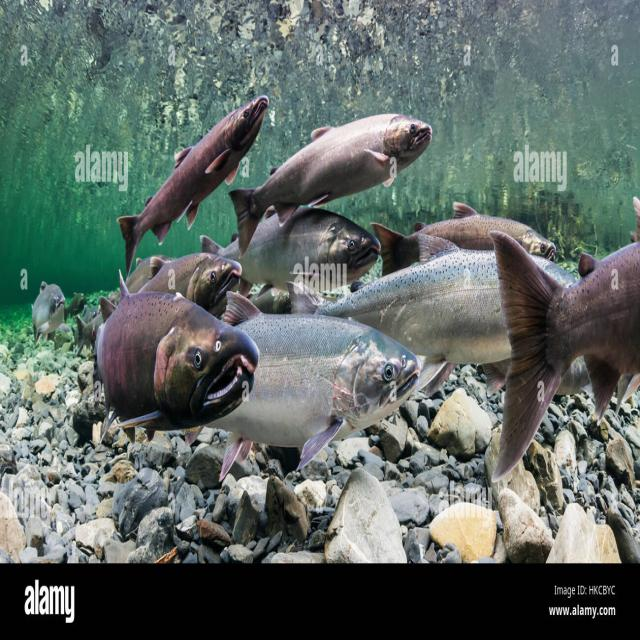salmon: (199, 278, 423, 484), (94, 82, 267, 266), (80, 262, 262, 430), (235, 100, 437, 248), (188, 186, 388, 295)
